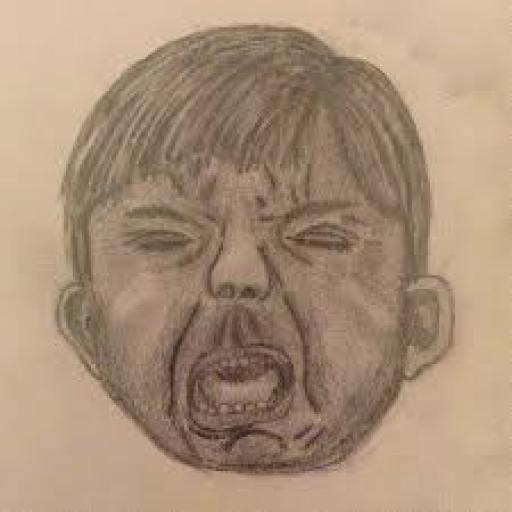person: (48, 21, 480, 507)
